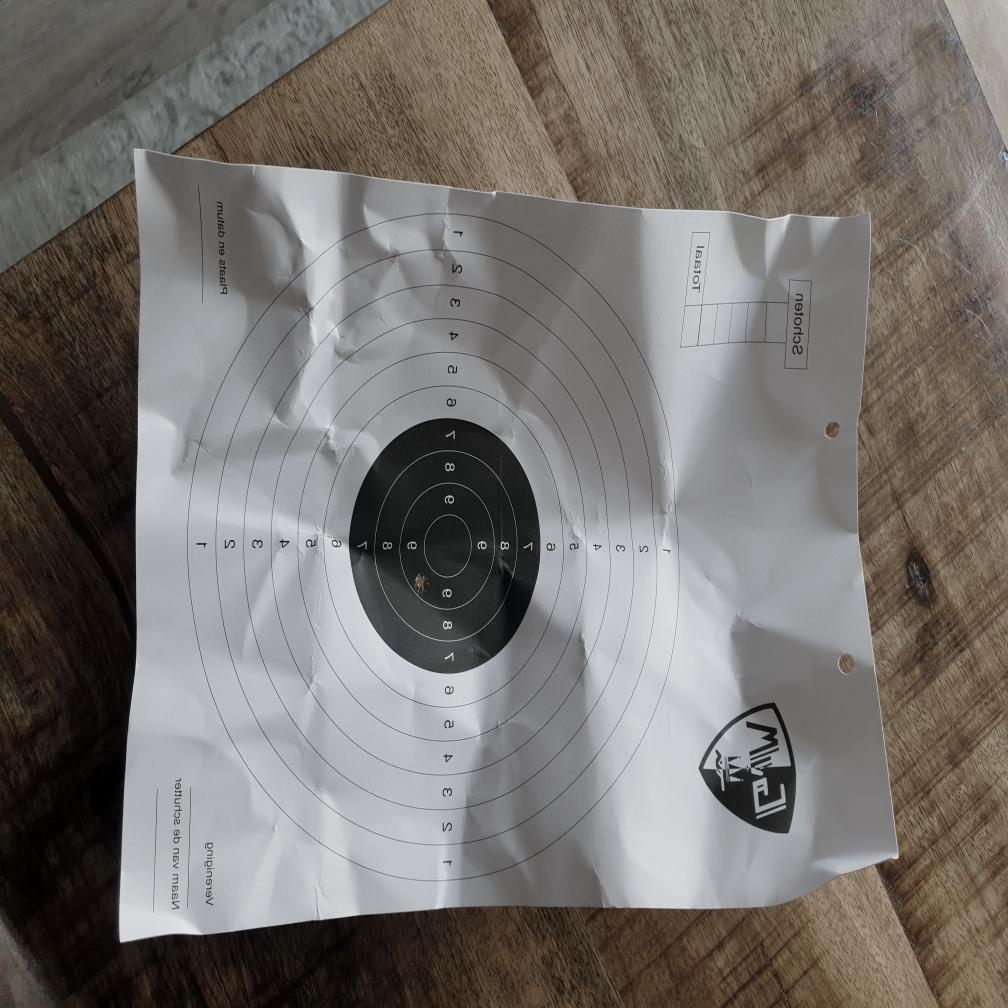9: (414, 573, 430, 596)
Target: (185, 211, 681, 884)
black_contour: (350, 417, 542, 673)
